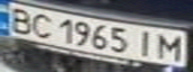1: (51, 16, 75, 44)
5: (109, 25, 133, 55)
6: (90, 21, 112, 51)
9: (69, 19, 93, 47)
B: (3, 4, 39, 34)
C: (24, 10, 57, 39)
I: (130, 28, 160, 57)
M: (151, 32, 190, 61)
